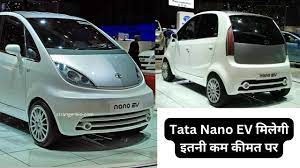Nano: (1, 9, 153, 151), (159, 11, 293, 107)
